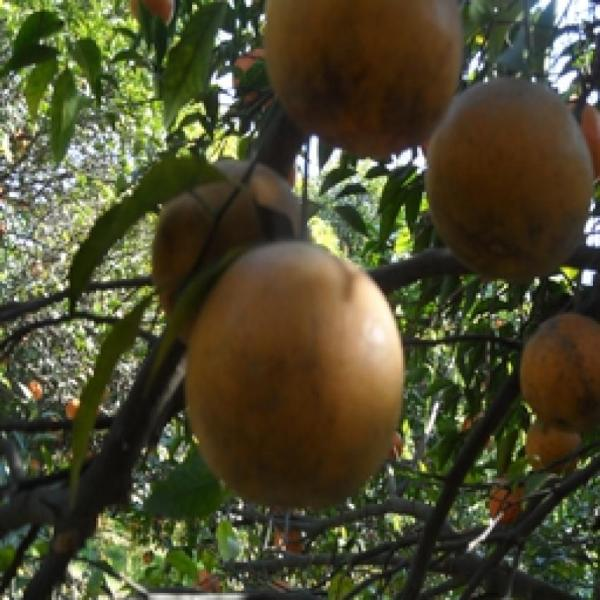Canker: (182, 235, 414, 525), (427, 70, 586, 287), (262, 0, 466, 159), (147, 155, 312, 313), (517, 314, 600, 428)
